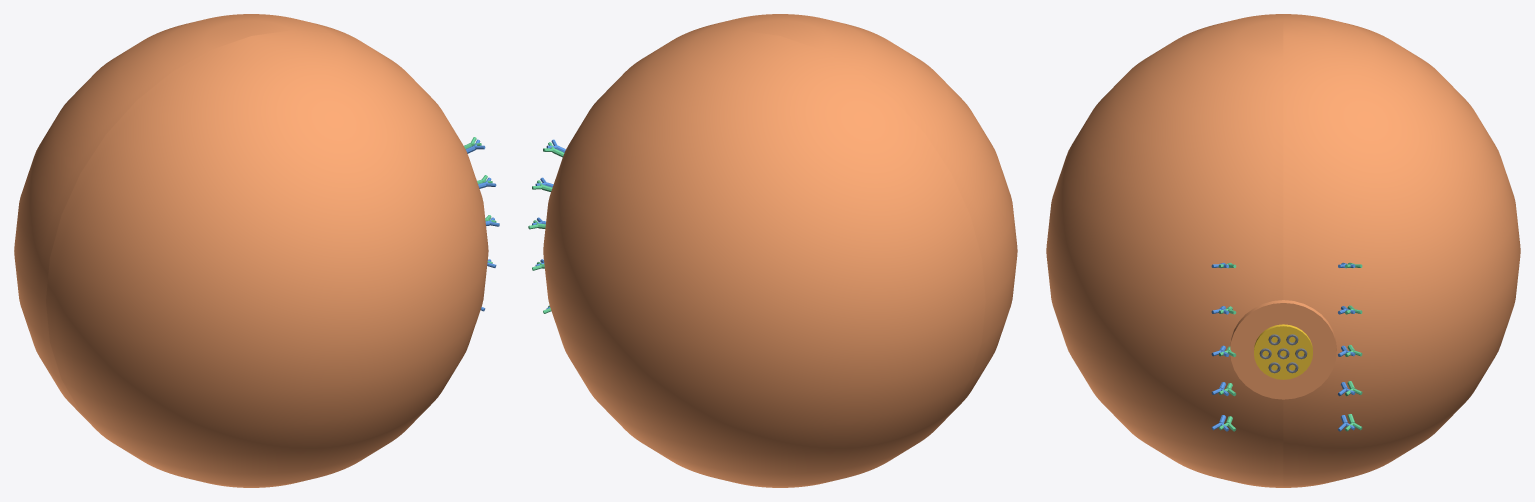
File: hiv_cd8_ctl.glb
3 views of the same model, side by side, from view 1: azimuth 30°, elevation 25°; view 2: azimuth 150°, elevation 25°; view 3: azimuth 270°, elevation 25° (orthographic).
Parts seen in each view (by area): view 1: membrane-front, membrane-back, tcr-cd8-receptors; view 2: membrane-back, membrane-front, tcr-cd8-receptors; view 3: membrane-front, membrane-back, synapse-contact, tcr-cd8-receptors, perforin-pores.
Boxes of the visible parts, x1=… form: membrane-front: x1=46, y1=30, x2=488, y2=487; membrane-back: x1=14, y1=14, x2=393, y2=436; tcr-cd8-receptors: x1=464, y1=137, x2=499, y2=311; membrane-back: x1=543, y1=30, x2=985, y2=487; membrane-front: x1=638, y1=14, x2=1017, y2=436; tcr-cd8-receptors: x1=528, y1=139, x2=565, y2=313; membrane-front: x1=1046, y1=14, x2=1283, y2=487; membrane-back: x1=1283, y1=14, x2=1520, y2=487; synapse-contact: x1=1230, y1=300, x2=1336, y2=399; tcr-cd8-receptors: x1=1211, y1=262, x2=1362, y2=431; perforin-pores: x1=1259, y1=334, x2=1307, y2=373.
Size of the model in its own units: 0.4094 by 0.4 by 0.4.
